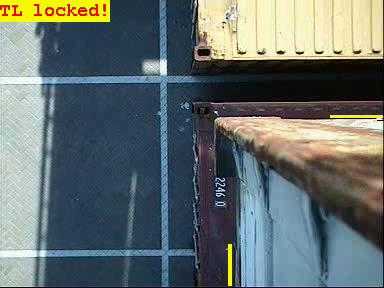groundmarker_2: (41, 44, 144, 121)
